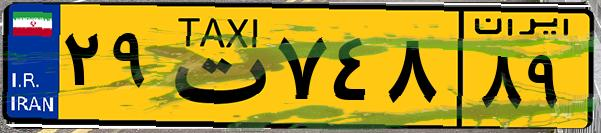2: (57, 26, 110, 100)
4: (330, 28, 385, 110)
7: (270, 28, 330, 110)
8: (385, 28, 445, 110), (475, 38, 525, 113)
9: (525, 38, 570, 115), (110, 28, 158, 98)
ت: (158, 12, 270, 120)
